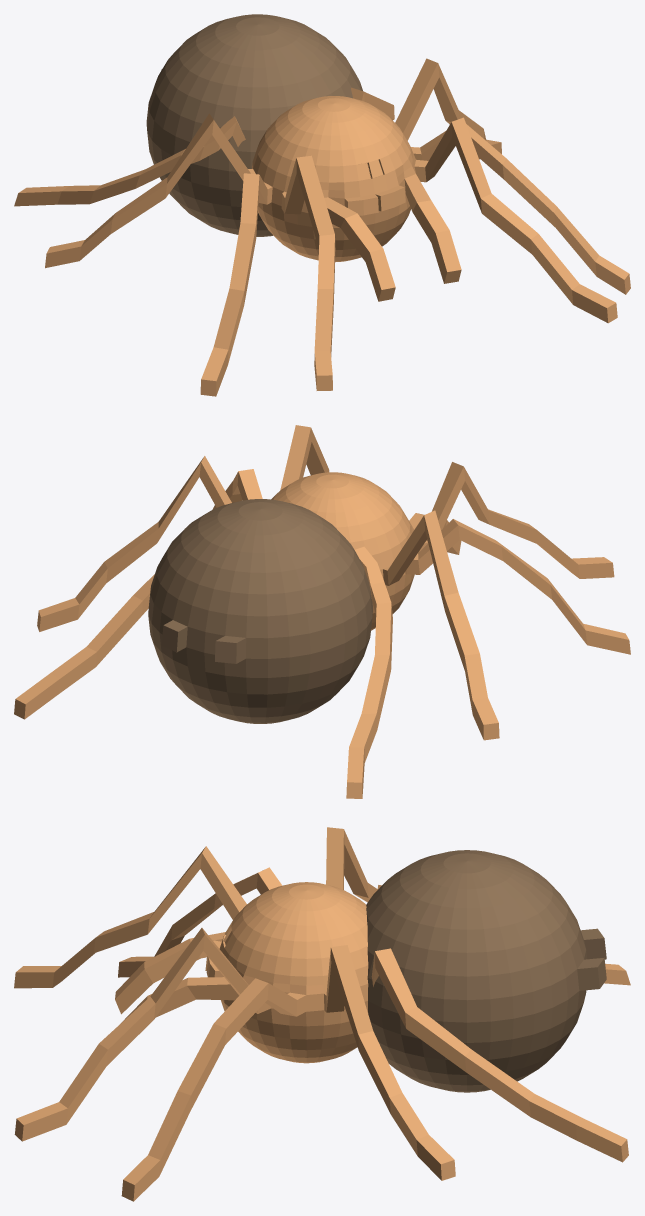
The model's file is spider.glb.
The picture shows the model from 3 angles, top to bottom: view 1: azimuth 30°, elevation 25°; view 2: azimuth 150°, elevation 25°; view 3: azimuth 270°, elevation 25°; orthographic projection. The views are drawn at different scales.
Parts seen in each view (by area): view 1: Body, Abdomen; view 2: Abdomen, Body; view 3: Body, Abdomen.
Part boxes in pixels (x1=…): Body: x1=14, y1=58, x2=630, y2=396; Abdomen: x1=146, y1=14, x2=362, y2=236; Abdomen: x1=148, y1=499, x2=372, y2=723; Body: x1=14, y1=425, x2=630, y2=798; Body: x1=14, y1=827, x2=630, y2=1201; Abdomen: x1=366, y1=850, x2=606, y2=1092.
Size of the model in its own units: 6.34 by 2.72 by 6.8.
